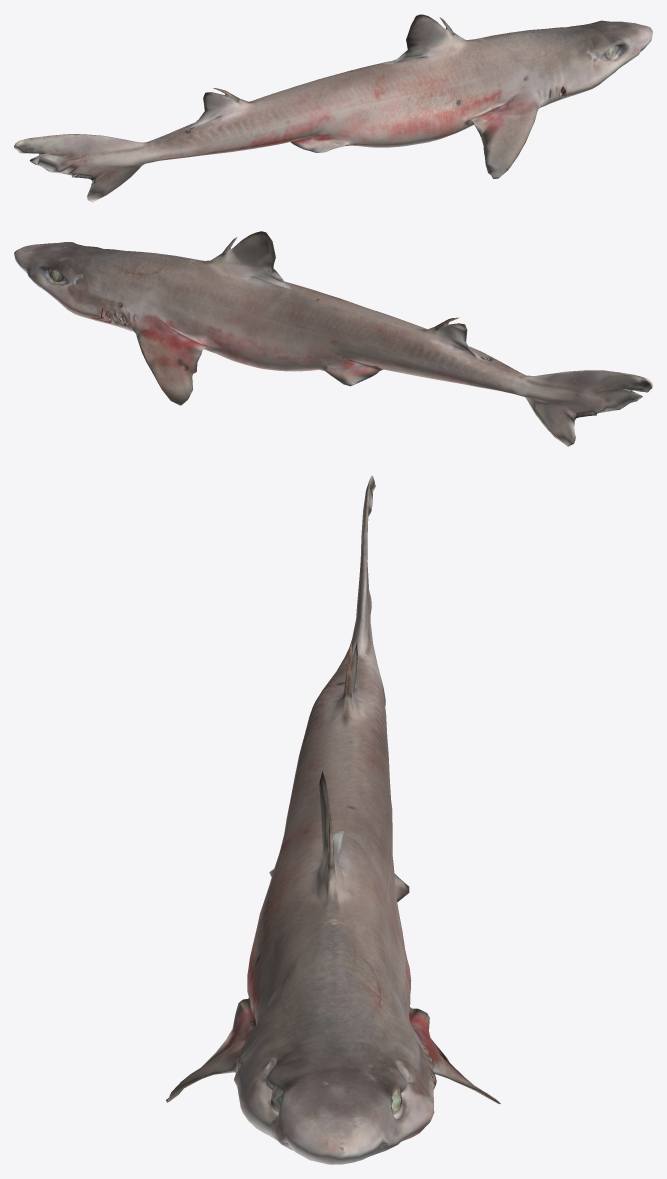
File: scan_dogfish.glb
3 renders of one model, top to bottom at view 1: azimuth 30°, elevation 25°; view 2: azimuth 150°, elevation 25°; view 3: azimuth 270°, elevation 25°, orthographic. The views are drawn at different scales.
Parts seen in each view (by area): view 1: scan_dogfish; view 2: scan_dogfish; view 3: scan_dogfish.
Boxes of the visible parts, x1,y1,x2,y2 form: scan_dogfish: (14, 14, 652, 202); scan_dogfish: (14, 231, 652, 446); scan_dogfish: (166, 475, 500, 1164).
Size of the model in its own units: 0.9978 by 0.2224 by 0.2303.
1 material, 1 textured.
